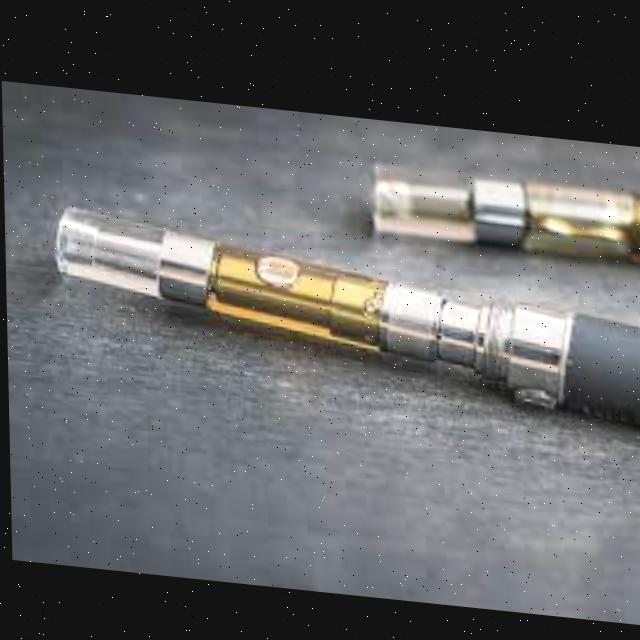vape: (53, 200, 640, 408), (368, 152, 640, 246)
